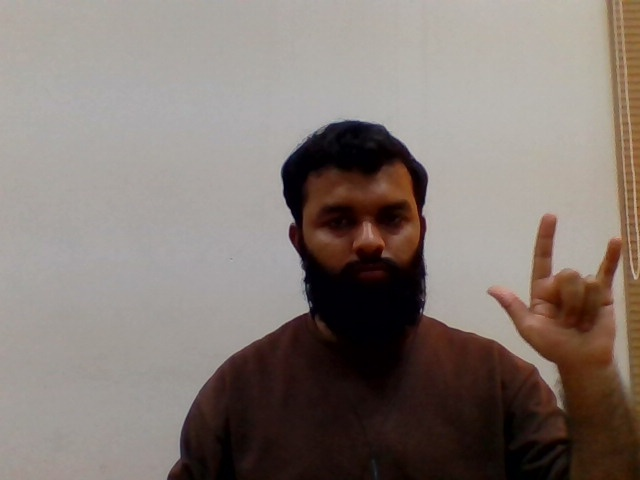I Love you: (481, 206, 634, 383)
